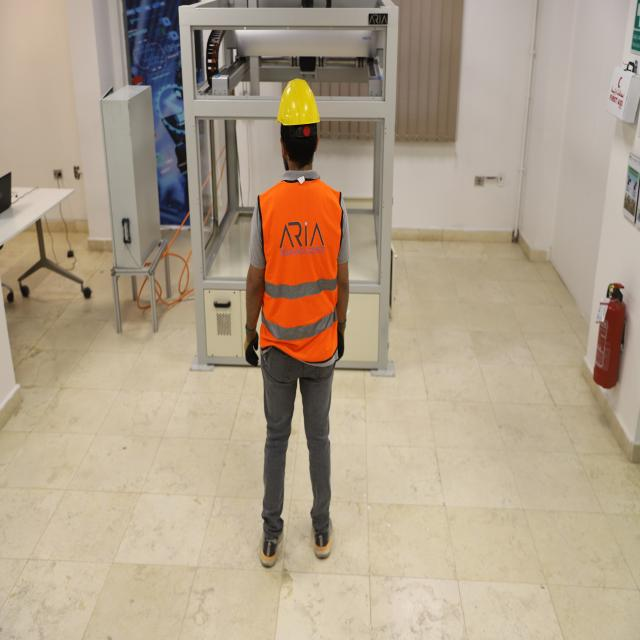glove: (244, 324, 258, 372), (334, 319, 350, 360)
helmet: (271, 75, 325, 130)
pants: (261, 356, 335, 534)
vest: (257, 177, 339, 364)
